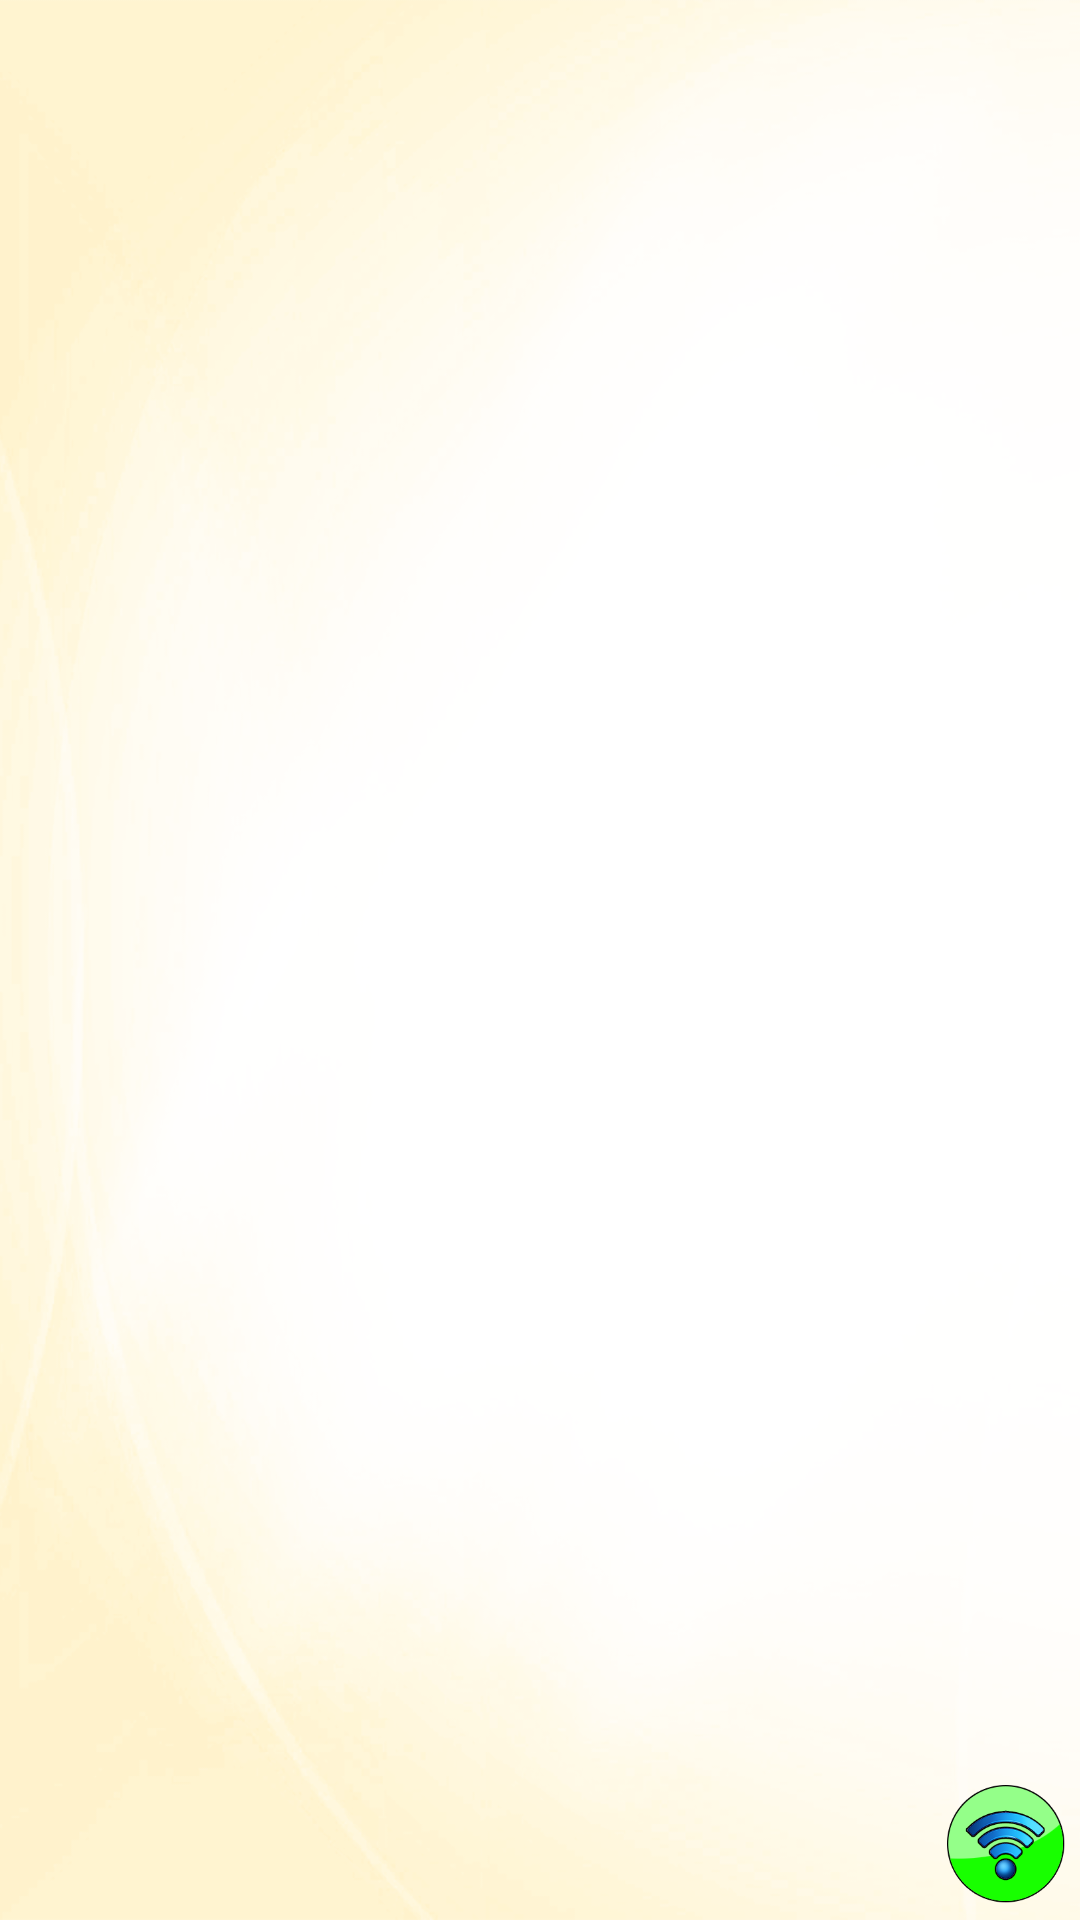

Named icons in this screenshot (1080*1920) and their centers, (x=x, y=y):
connected: (x=1006, y=1844)
